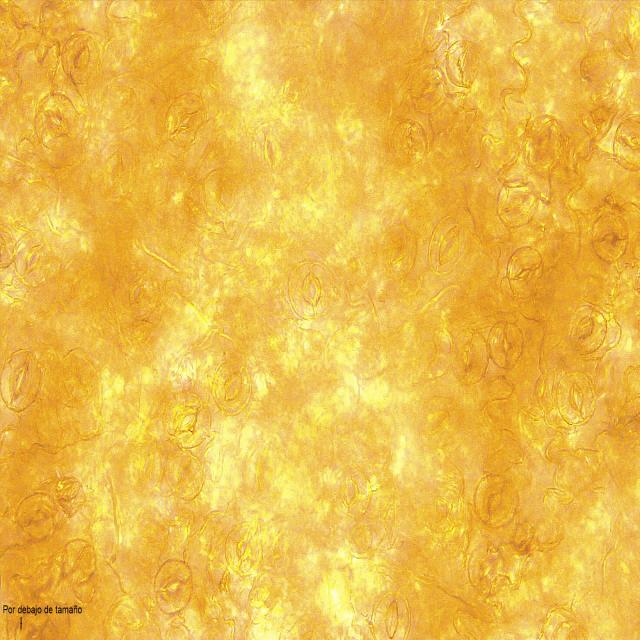Stomata: (163, 389, 213, 452), (34, 90, 82, 154), (0, 346, 43, 416), (287, 260, 337, 320), (427, 213, 472, 278), (160, 91, 208, 150), (93, 137, 137, 201), (472, 471, 520, 528), (494, 176, 540, 233), (12, 229, 54, 290), (153, 557, 195, 618), (375, 222, 418, 280), (251, 117, 293, 176), (520, 114, 562, 172), (116, 266, 160, 321), (13, 491, 61, 541), (331, 464, 373, 521), (505, 244, 546, 302), (162, 448, 206, 502), (210, 362, 253, 417), (451, 327, 490, 387), (224, 520, 264, 577), (60, 30, 100, 86), (556, 371, 596, 427), (485, 319, 526, 373), (568, 302, 608, 357), (409, 62, 449, 115), (467, 540, 506, 594), (590, 211, 629, 264), (246, 440, 280, 500), (371, 592, 413, 640), (390, 118, 429, 168), (60, 536, 97, 586), (445, 38, 482, 88), (608, 2, 640, 59), (611, 115, 640, 172)
